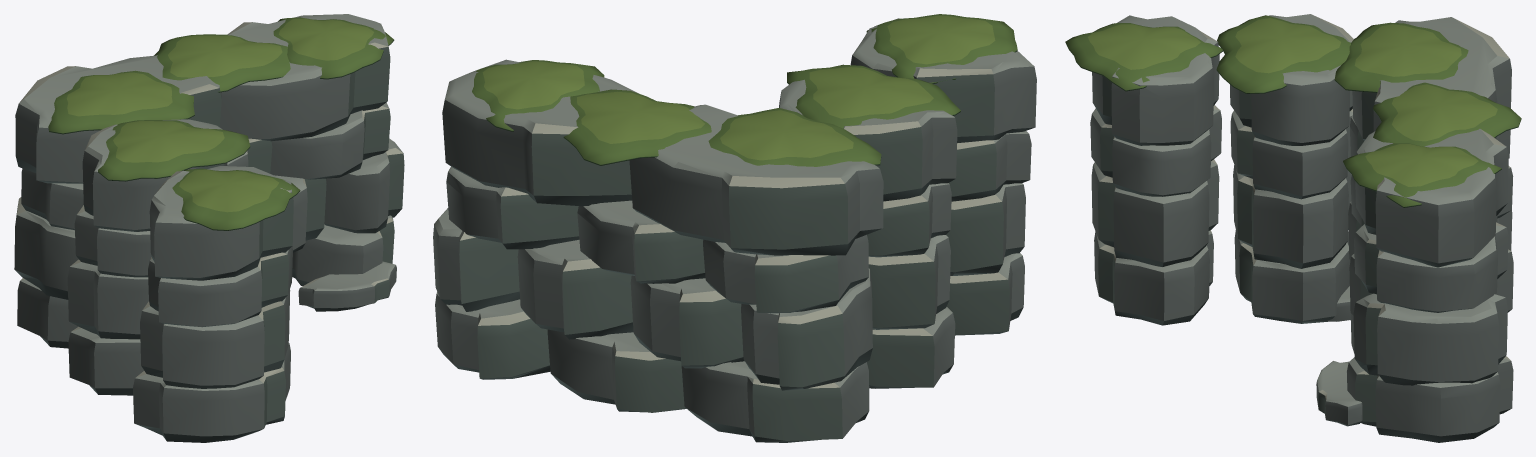
The model's file is fw_cliff_corner.hi.glb.
3 views of the same model, side by side, from view 1: azimuth 30°, elevation 25°; view 2: azimuth 150°, elevation 25°; view 3: azimuth 270°, elevation 25° (orthographic). The views are drawn at different scales.
Parts seen in each view (by area): view 1: body; view 2: body; view 3: body.
Part boxes in pixels (x1=…): body: x1=14, y1=14, x2=404, y2=442; body: x1=433, y1=14, x2=1036, y2=442; body: x1=1065, y1=14, x2=1521, y2=442.
Size of the model in its own units: 3.44 by 2.08 by 3.38.
